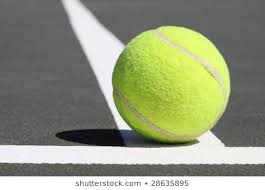tennis_ball: (111, 25, 231, 145)
